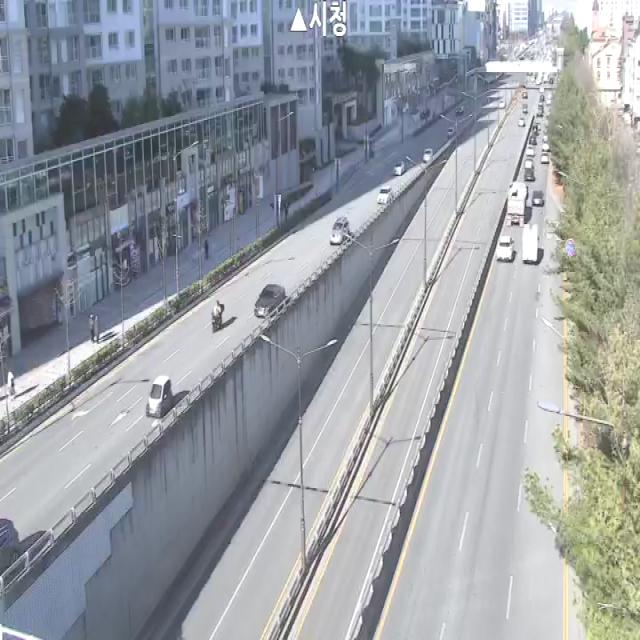Car: (146, 376, 171, 420), (254, 284, 285, 318), (330, 217, 349, 244), (496, 236, 514, 262), (377, 185, 393, 204), (394, 160, 406, 175), (532, 190, 543, 206), (423, 147, 433, 162), (524, 169, 534, 181), (541, 152, 549, 164), (526, 145, 534, 157), (525, 158, 533, 169), (529, 134, 537, 145)
Motorcycle: (209, 296, 227, 330)
Truck: (506, 181, 527, 227), (523, 224, 539, 263)
